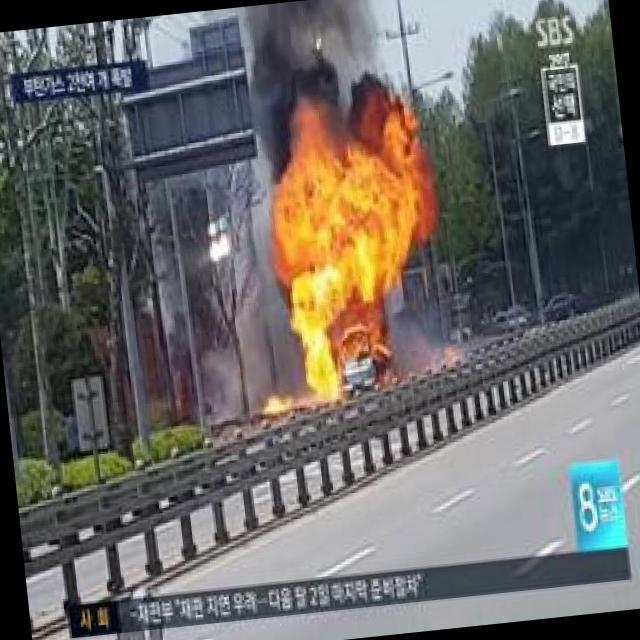Fire: (269, 160, 407, 418), (259, 390, 290, 418)
